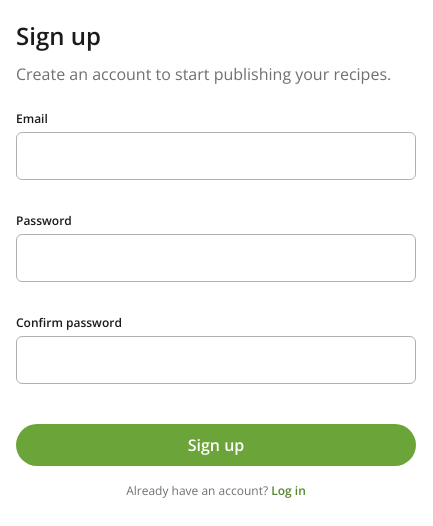
Scenario: Signup page › blocks submission when passwords don't match
Step 1. Type "cook@example.com" into the field labelled "Email" → (216, 156), box 16,132 -> 416,180
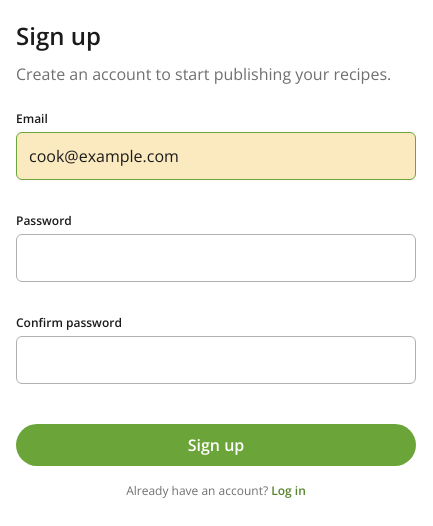
Step 2. Type "password123" into the password field labelled "Password" → (216, 258), box 16,234 -> 416,282
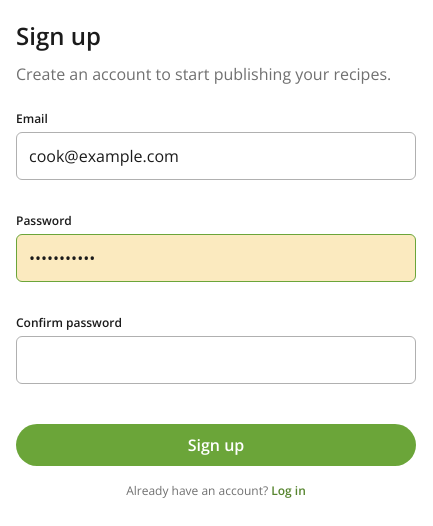
Step 3. Type "different" into the password field labelled "Confirm password" → (216, 360), box 16,336 -> 416,384
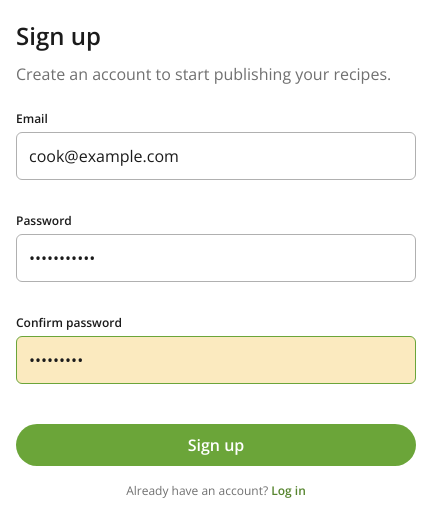
Step 4. Click the button "Sign up" → (216, 445), box 16,424 -> 416,466
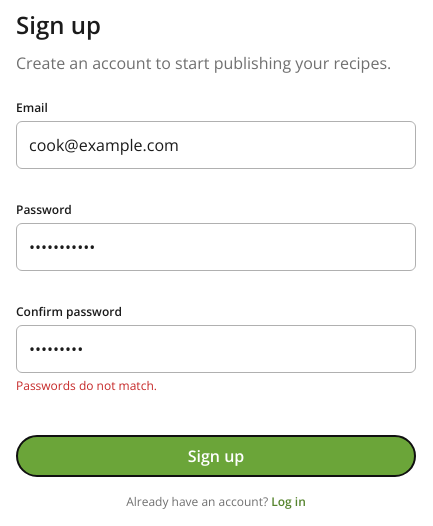
expect the text "Passwords do not match." is shown: met, box 16,377 -> 157,394
